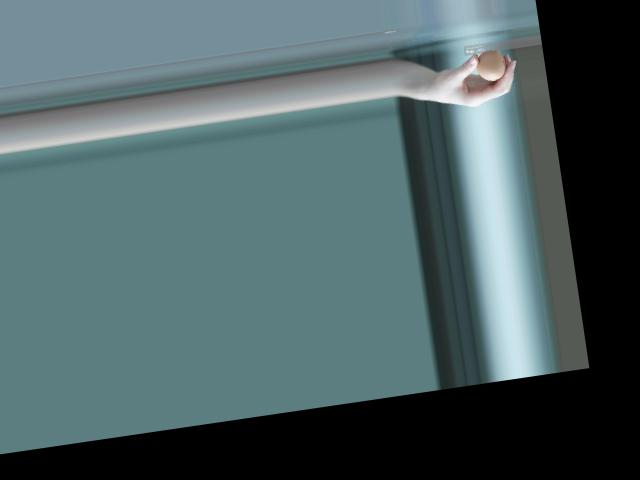egg: (474, 47, 508, 82)
